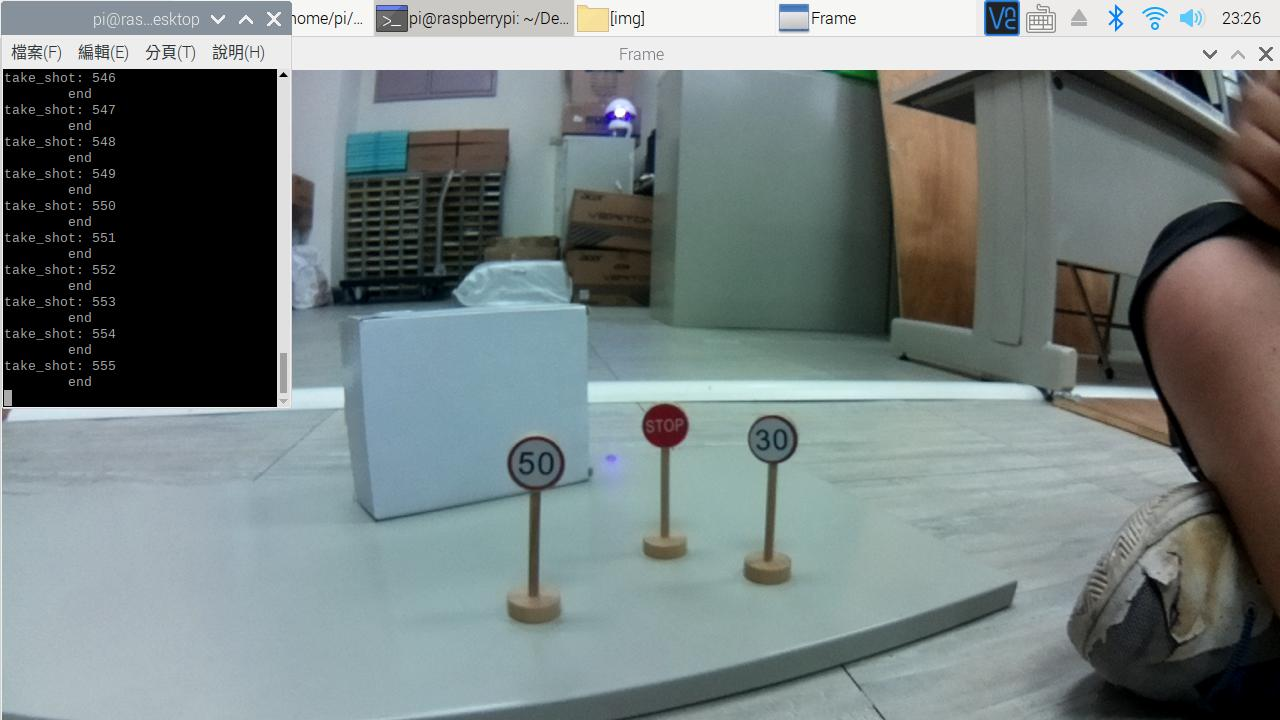Speed30: (731, 408, 811, 478)
Speed50: (495, 430, 578, 498)
Stop: (617, 394, 714, 470)
